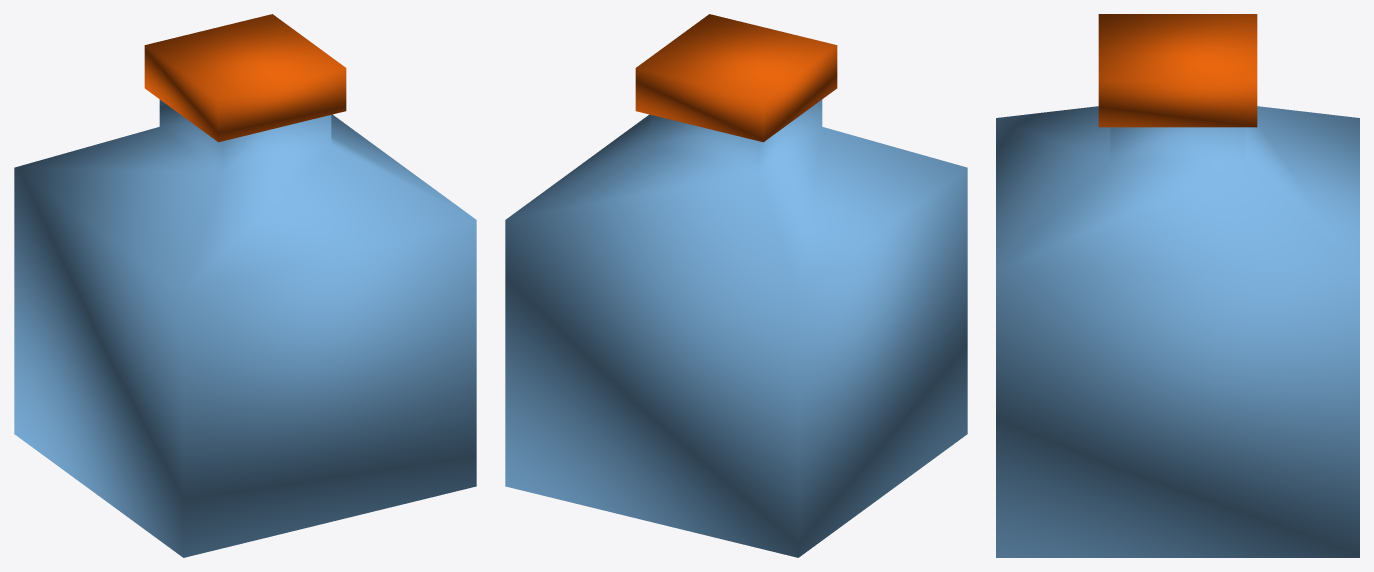
The model's file is Bottle2WithoutLiquid.fbx.
3 renders of one model, left to right at view 1: azimuth 30°, elevation 25°; view 2: azimuth 150°, elevation 25°; view 3: azimuth 270°, elevation 25°, orthographic. The views are drawn at different scales.
Parts seen in each view (by area): view 1: Bottle2WithoutLiquid; view 2: Bottle2WithoutLiquid; view 3: Bottle2WithoutLiquid.
Boxes of the visible parts, x1,y1,x2,y2 form: Bottle2WithoutLiquid: (14,14,476,557); Bottle2WithoutLiquid: (505,14,967,557); Bottle2WithoutLiquid: (996,14,1359,557).
Bounding box in the file's own units: 45.6 × 59.96 × 45.6.
